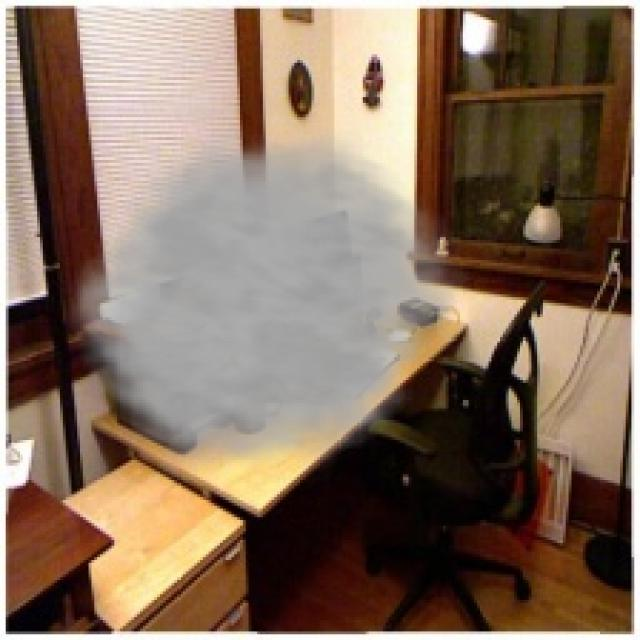smoke: (57, 128, 477, 486)
